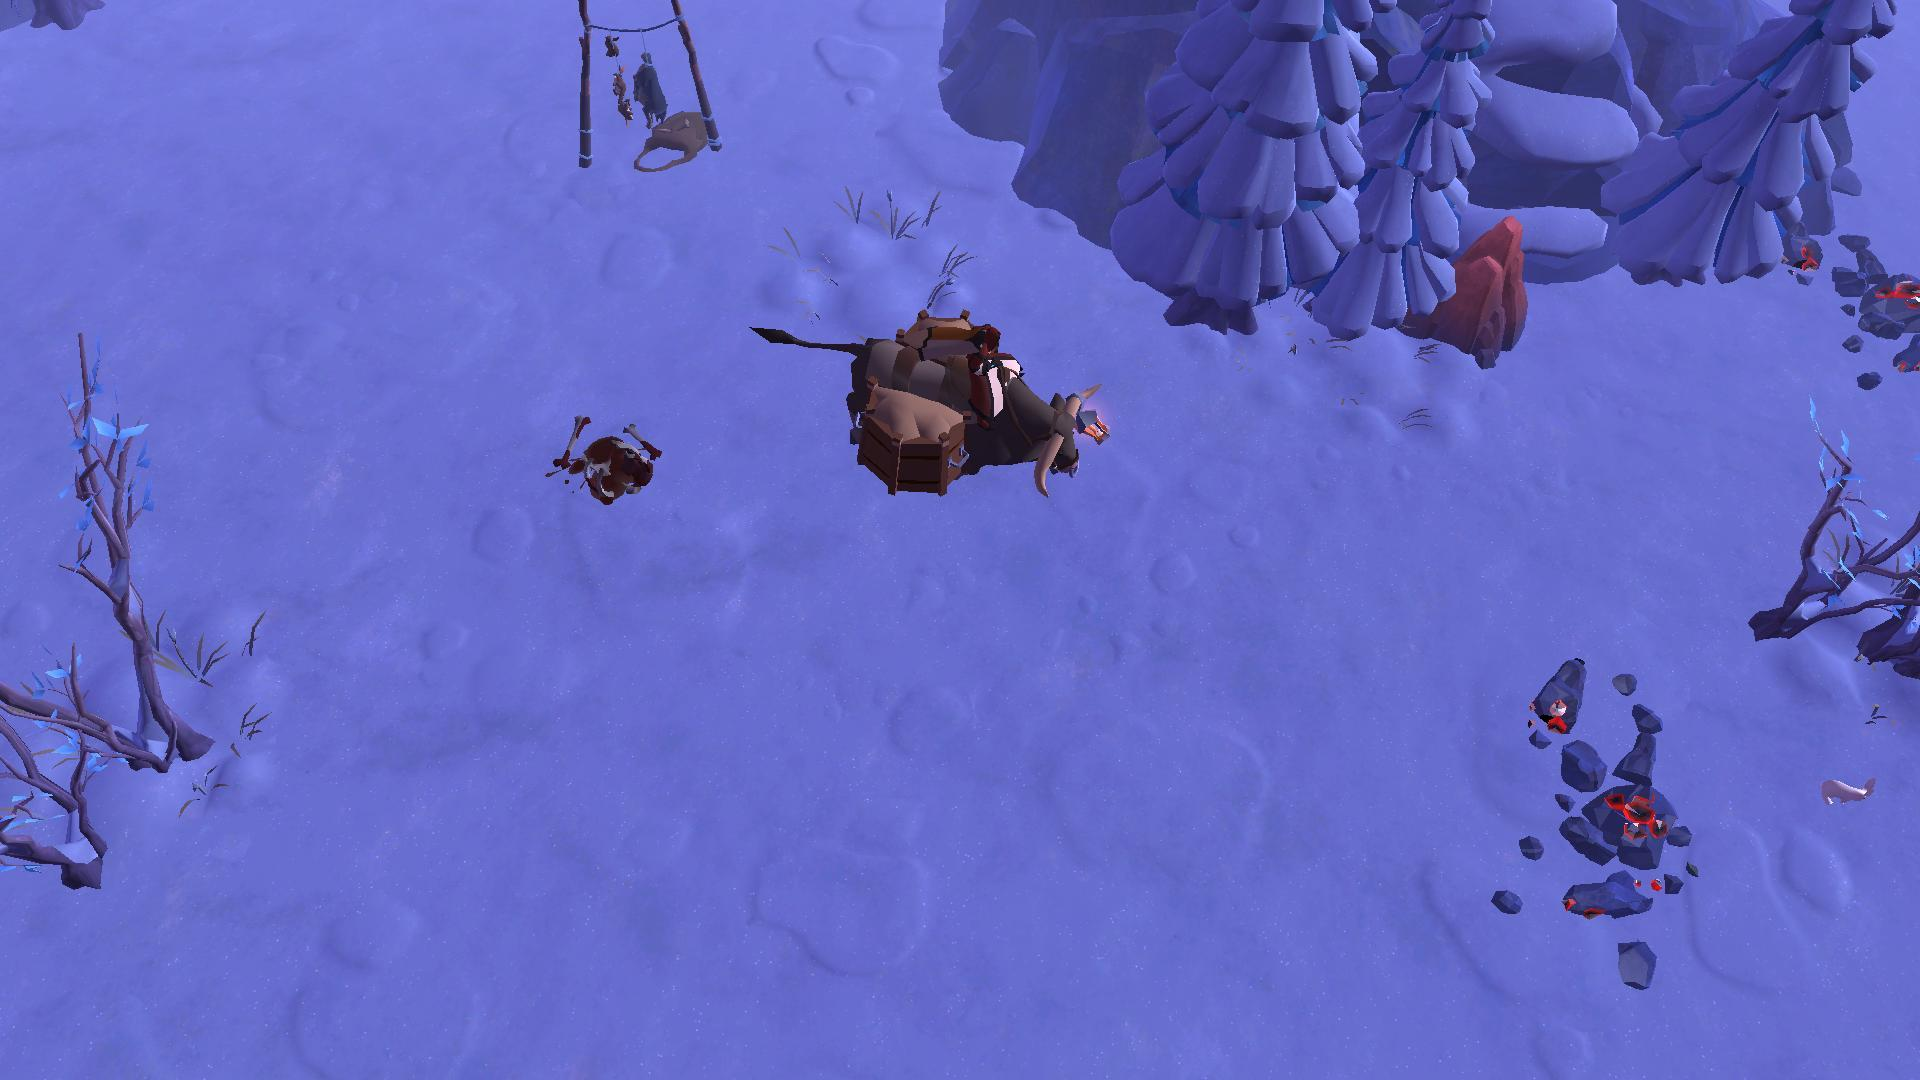rock_t5: (1407, 214, 1539, 367)
